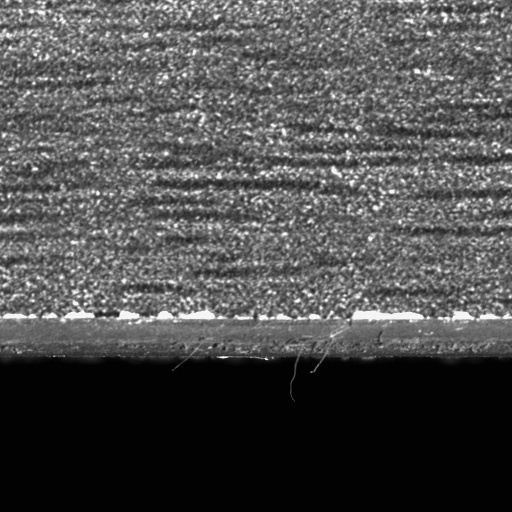huashang: (350, 310, 425, 322), (119, 310, 173, 323), (2, 310, 57, 319), (179, 309, 217, 322), (63, 310, 96, 322), (447, 310, 478, 322)
